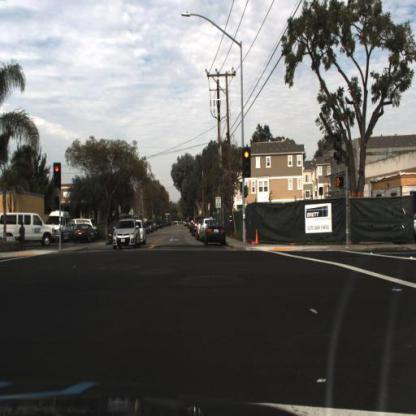car: (1, 213, 57, 249), (44, 213, 74, 249), (112, 220, 143, 254), (203, 220, 227, 249), (72, 224, 97, 246), (134, 221, 148, 248), (200, 220, 212, 247)
pedestrian: (17, 223, 27, 254)
trafficLight: (241, 148, 253, 182)
trafficLight-Red: (52, 166, 62, 194), (337, 178, 347, 194)
truck: (1, 212, 56, 248), (44, 210, 73, 246), (72, 219, 98, 235)
